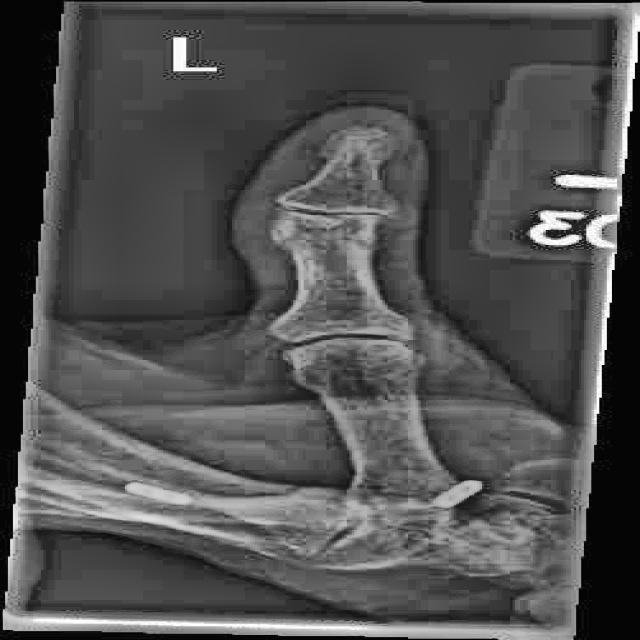fingers positive: (251, 209, 412, 257)
